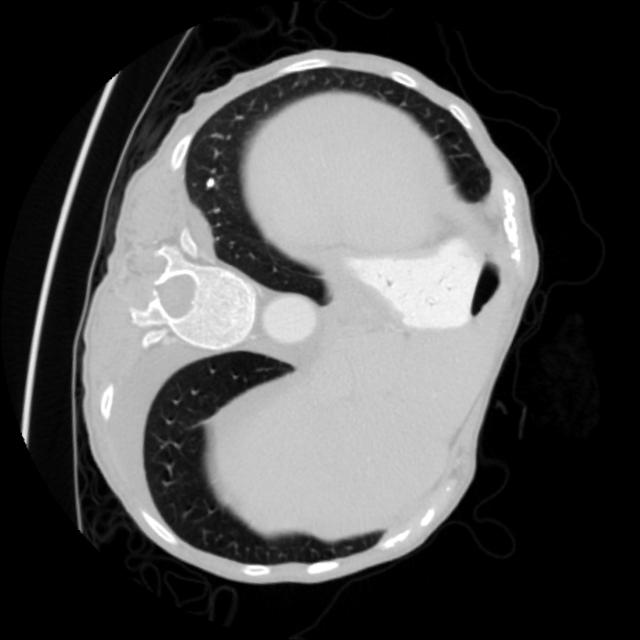nodule: (197, 171, 224, 198)
